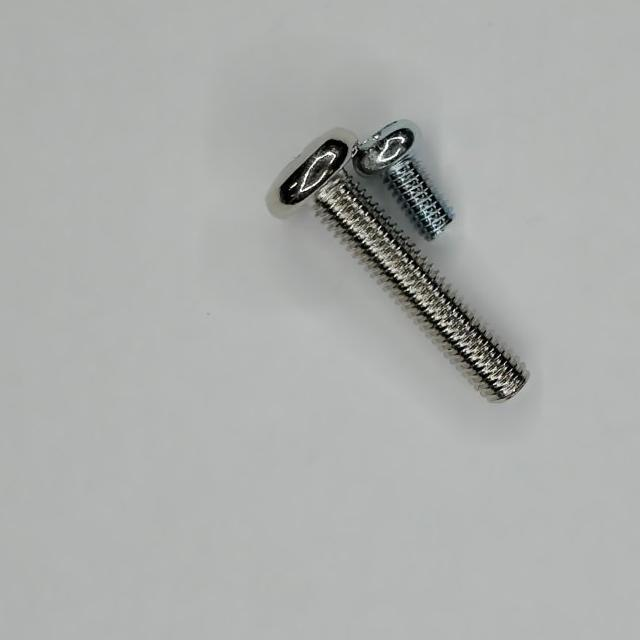Screw: (267, 128, 527, 400), (354, 119, 452, 239)
